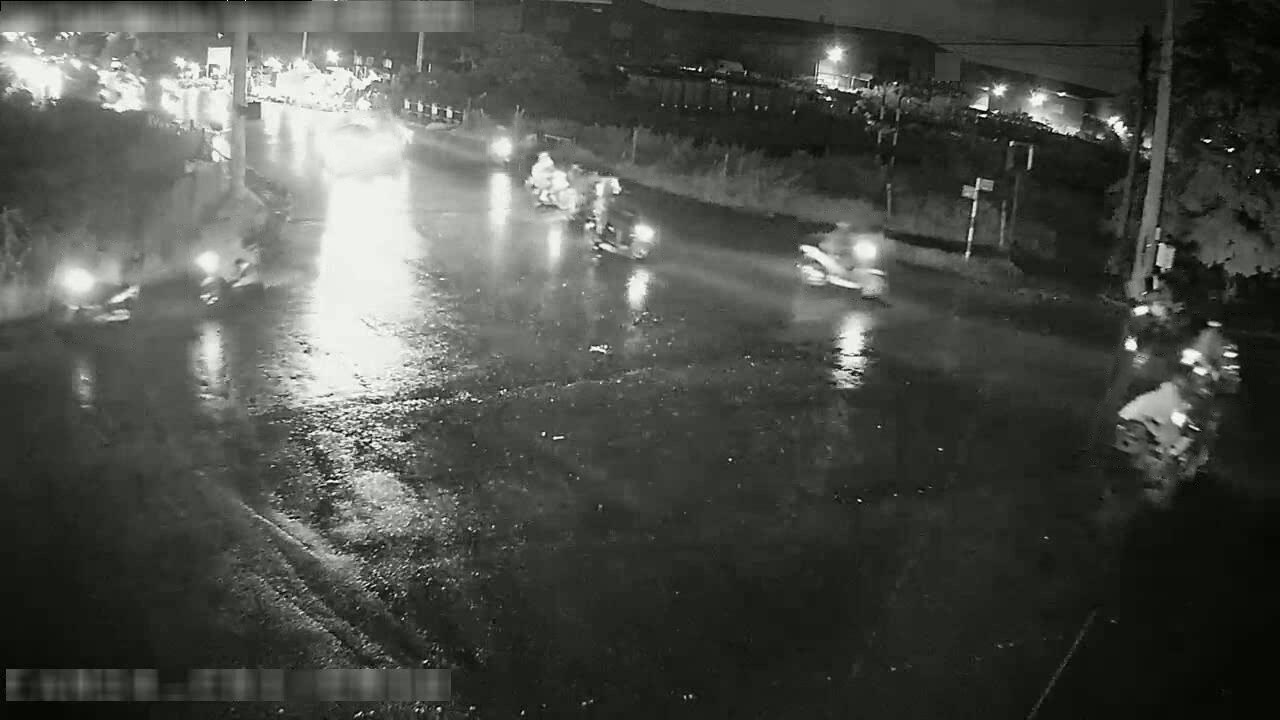Car: (796, 223, 887, 298), (324, 113, 406, 176)
Motorcyclist: (1111, 356, 1216, 482), (48, 250, 143, 338), (190, 222, 262, 308), (584, 178, 657, 260), (1178, 318, 1242, 398), (525, 151, 579, 215), (1129, 276, 1184, 331), (486, 124, 518, 169)
